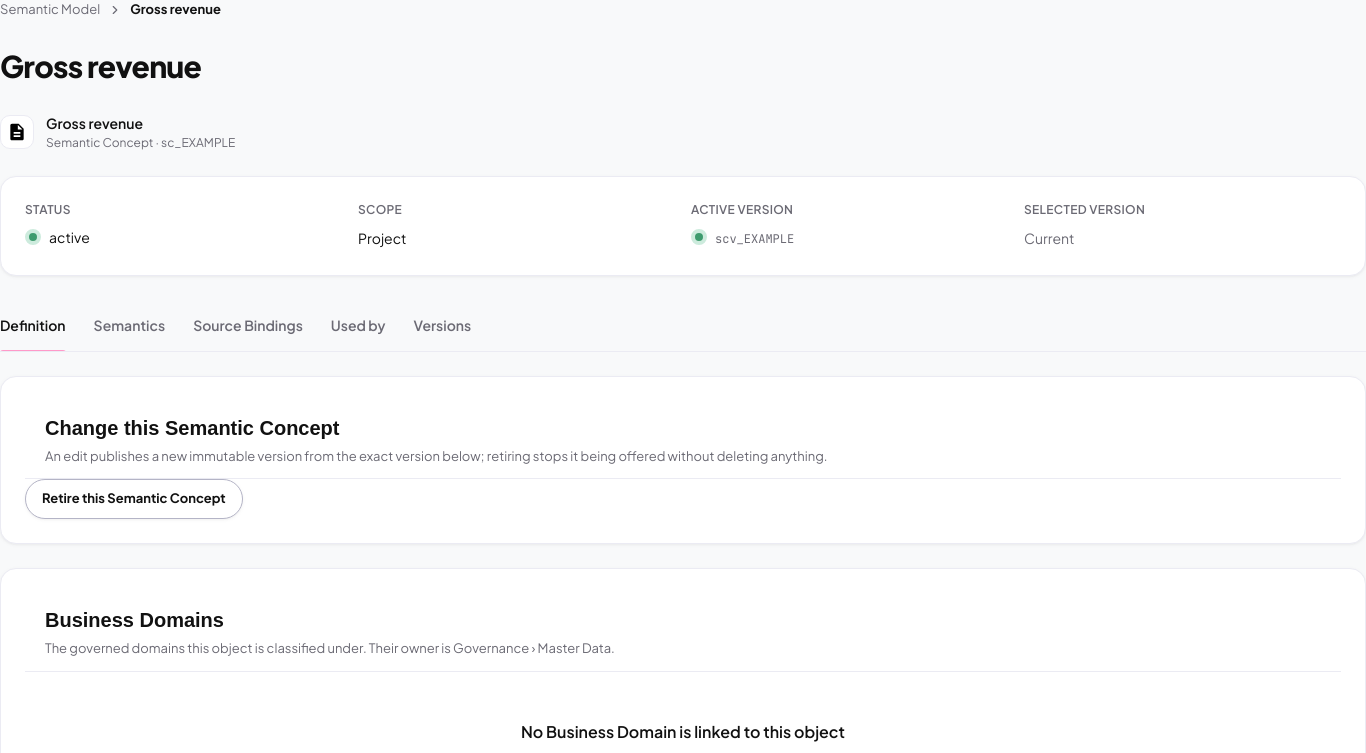
names the object and counts its consumers before anything is retired
Click the button "Retire this Semantic Concept" at (134, 499), box [25,479,243,519]
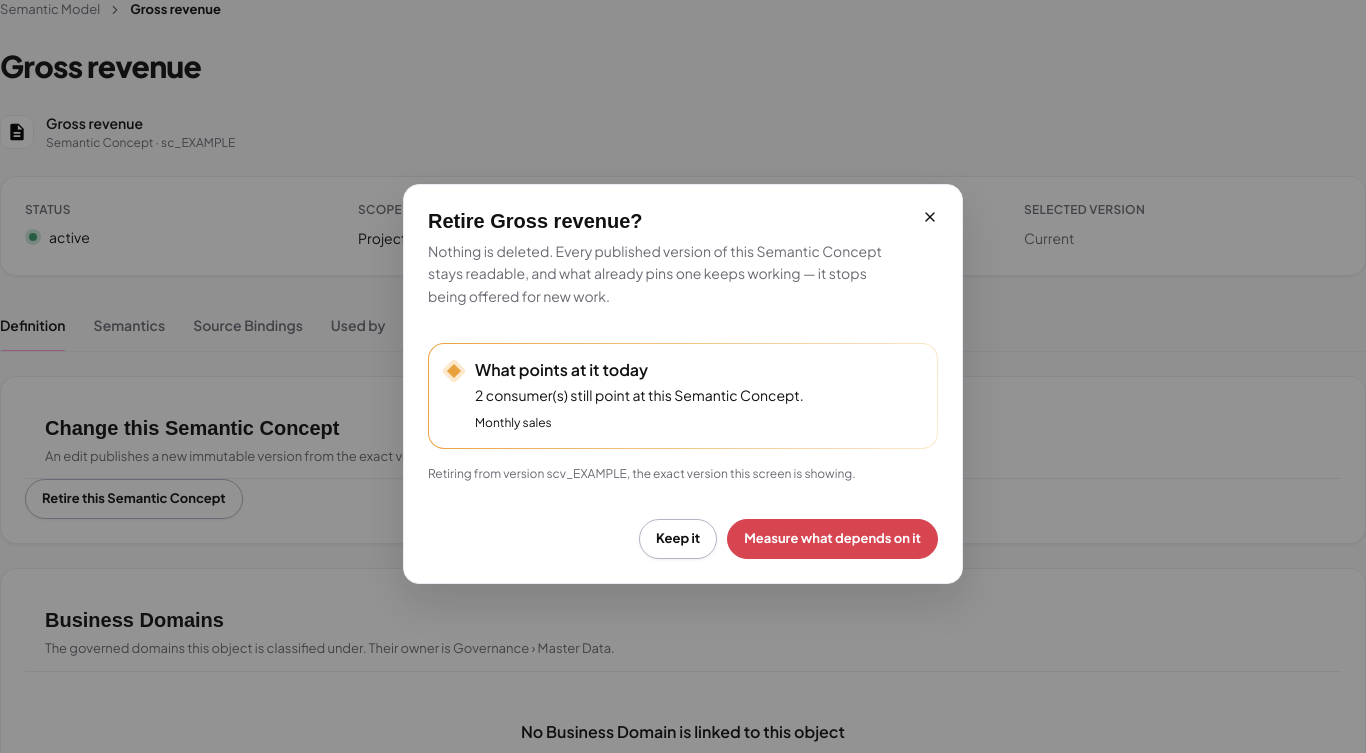
Now the heading "Retire Gross revenue?" is shown, box [428,210,642,232]
Now the text "2 consumer(s) still point at this" is shown, box [475,386,804,404]
Now the list item "Monthly sales" is shown, box [475,415,552,430]
